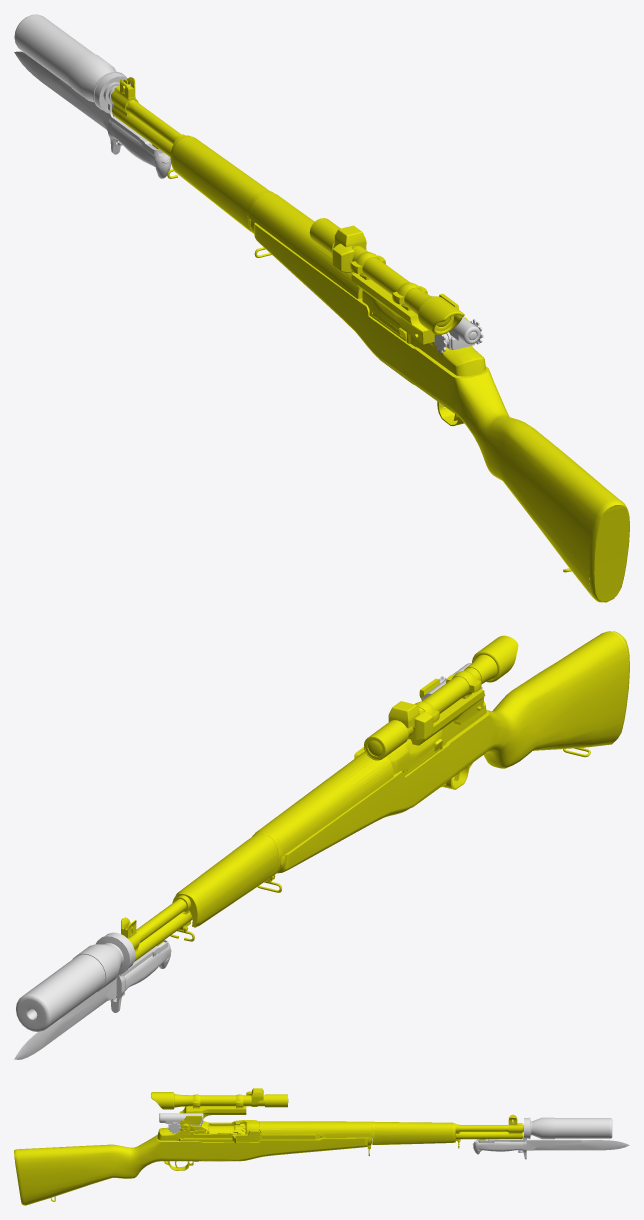
Rendered from M1Combined.gltf.
3 views of the same model, one above another, from view 1: azimuth 30°, elevation 25°; view 2: azimuth 150°, elevation 25°; view 3: azimuth 270°, elevation 25° (orthographic). The views are drawn at different scales.
Visible parts, largest first — view 1: Main_Body, top_body, M84_Body, Suppressor, mechanic, parts, Blade, Hilt, Exp_Body, Barrel; view 2: Main_Body, top_body, M84_Body, Suppressor, mechanic, Blade, parts, Hilt, Barrel; view 3: Main_Body, top_body, mechanic, M84_Body, Suppressor, Blade, Hilt, parts, Exp_Body, Barrel.
Part boxes in pixels (left/top/right/bottom): Main_Body: left=254, top=223, right=620, bottom=597; top_body: left=172, top=136, right=362, bottom=298; M84_Body: left=309, top=218, right=464, bottom=344; Suppressor: left=14, top=14, right=169, bottom=162; mechanic: left=111, top=77, right=485, bottom=425; parts: left=170, top=135, right=629, bottom=602; Blade: left=14, top=51, right=109, bottom=131; Hilt: left=108, top=86, right=171, bottom=178; Exp_Body: left=431, top=295, right=483, bottom=352; Barrel: left=112, top=91, right=180, bottom=144; Main_Body: left=277, top=631, right=628, bottom=873; top_body: left=175, top=751, right=393, bottom=926; M84_Body: left=364, top=635, right=518, bottom=760; Suppressor: left=16, top=932, right=168, bottom=1031; mechanic: left=121, top=701, right=486, bottom=961; Blade: left=14, top=977, right=116, bottom=1059; parts: left=172, top=631, right=629, bottom=927; Hilt: left=110, top=942, right=171, bottom=1012; Barrel: left=136, top=899, right=186, bottom=942; Main_Body: left=17, top=1135, right=367, bottom=1205; top_body: left=259, top=1121, right=453, bottom=1144; mechanic: left=157, top=1114, right=523, bottom=1170; M84_Body: left=151, top=1088, right=287, bottom=1131; Suppressor: left=473, top=1117, right=612, bottom=1144; Blade: left=526, top=1139, right=629, bottom=1150; Hilt: left=473, top=1124, right=526, bottom=1159; parts: left=14, top=1121, right=455, bottom=1205; Exp_Body: left=159, top=1113, right=203, bottom=1133; Barrel: left=455, top=1125, right=523, bottom=1131.
Bounding box in the file's own units: 0.0997 × 0.2543 × 1.31.
9 materials, 6 textured.
